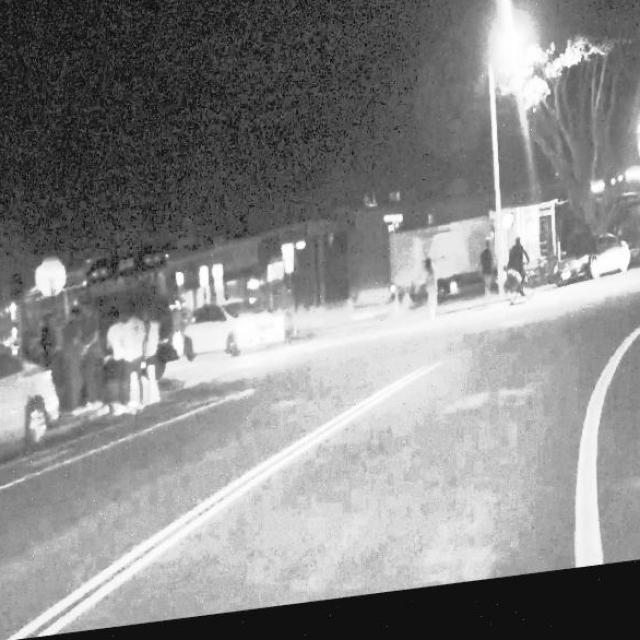Truck: (388, 232, 493, 318)
